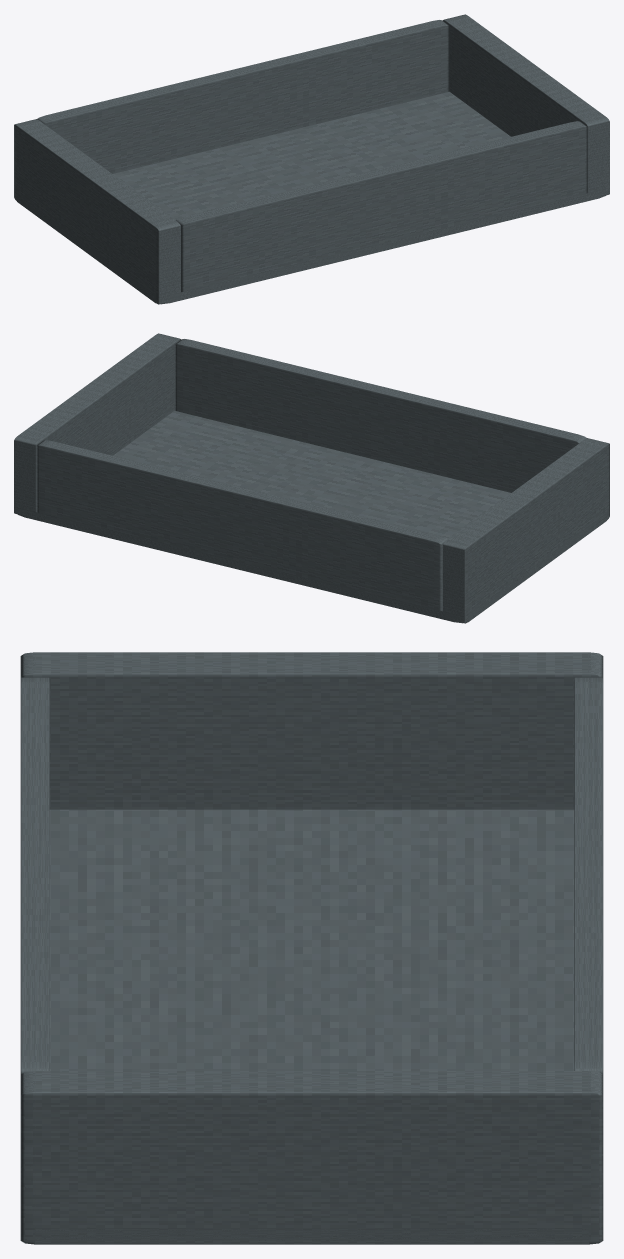
The model's file is parts-pan.glb.
3 renders of one model, top to bottom at view 1: azimuth 30°, elevation 25°; view 2: azimuth 150°, elevation 25°; view 3: azimuth 270°, elevation 25°, orthographic. The views are drawn at different scales.
Parts seen in each view (by area): view 1: edge (×2), side (×2), bottom; view 2: edge (×2), side (×2), bottom; view 3: side (×2), bottom, edge (×2).
Boxes of the visible parts, x1=… form: edge (×2): x1=37, y1=20, x2=587, y2=295; side (×2): x1=14, y1=14, x2=609, y2=304; bottom: x1=17, y1=91, x2=605, y2=304; edge (×2): x1=36, y1=339, x2=586, y2=613; side (×2): x1=14, y1=333, x2=609, y2=623; bottom: x1=18, y1=410, x2=606, y2=623; side (×2): x1=20, y1=652, x2=603, y2=1244; bottom: x1=34, y1=809, x2=589, y2=1244; edge (×2): x1=20, y1=677, x2=603, y2=1074.
Size of the model in its own units: 0.34 by 0.055 by 0.19.
1 material, 1 textured.
